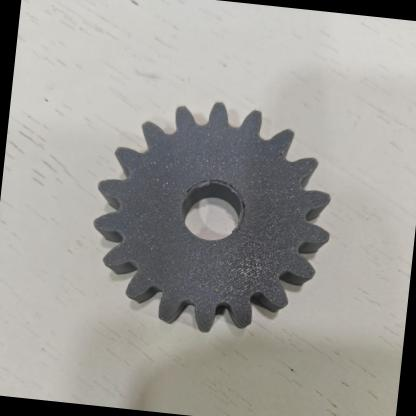gear: (51, 77, 354, 370)
